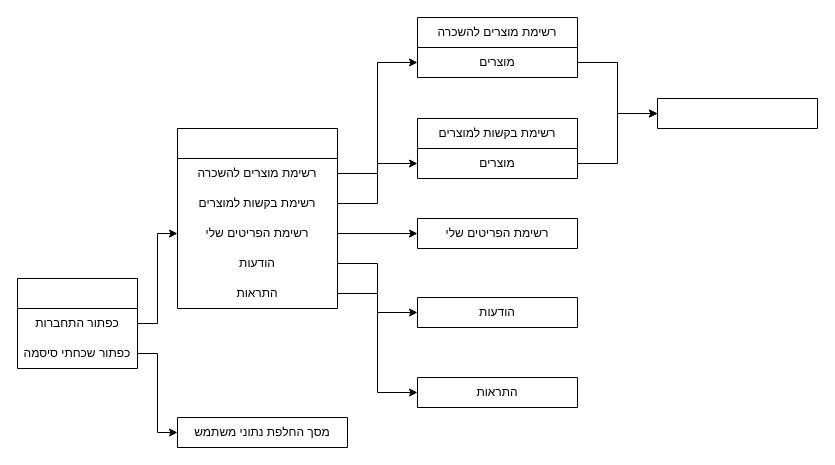
The diagram is 835 pixels wide and 465 high, and some of its shapes have lost their labels. The shapes that lost their labels are listed below. From the top down, each one's box as (x1, y1, x2, y2) in pixels, then its label:
(656, 98, 818, 128): השכרת מוצרים
(176, 128, 338, 308): מסך ראשי
(16, 278, 138, 368): מסך כניסה
